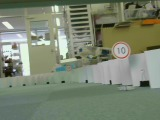speed_10: (109, 40, 132, 60)
